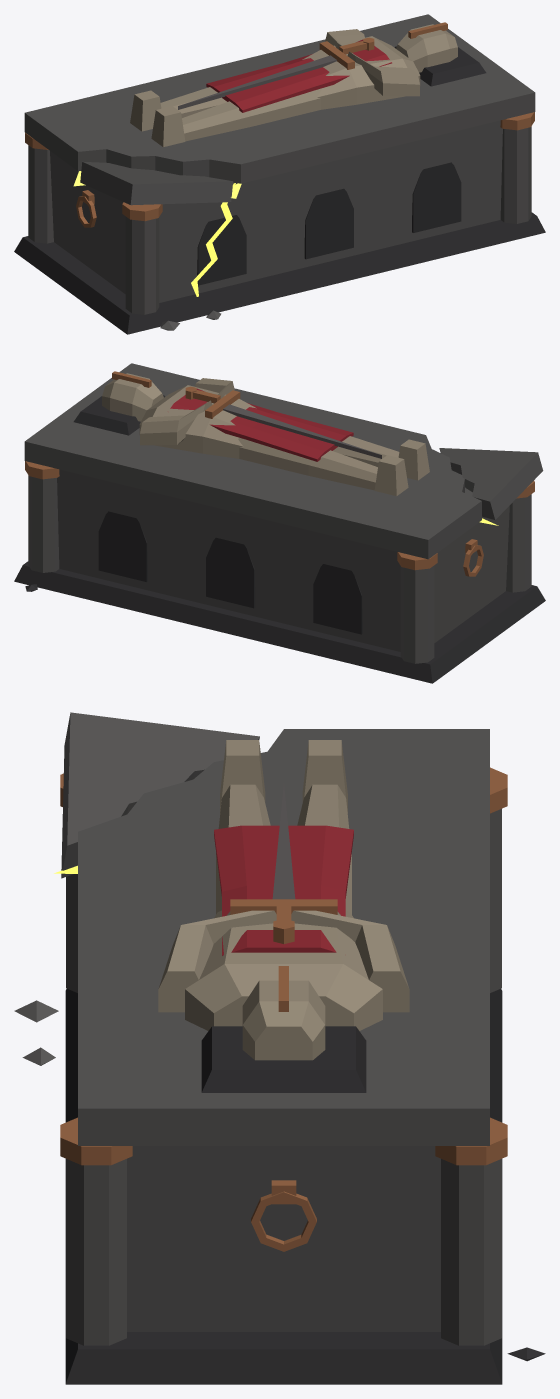
Rendered from tomb.glb.
3 views of the same model, one above another, from view 1: azimuth 30°, elevation 25°; view 2: azimuth 150°, elevation 25°; view 3: azimuth 270°, elevation 25° (orthographic). The views are drawn at different scales.
Visible parts, largest first — view 1: body, lid, plinth, lid_shard, effigy_tabard, pillar_fl, effigy_leg_r, effigy_torso, niche_front_2, pillar_fr, niche_front_1, niche_front_0 (+14 smaller); view 2: body, lid, plinth, lid_shard, effigy_tabard, pillar_rl, effigy_leg_l, effigy_torso, niche_back_2, niche_back_0, pillar_rr, niche_back_1 (+13 smaller); view 3: lid, body, plinth, lid_shard, effigy_torso, pillar_fr, pillar_rr, effigy_tabard, effigy_pillow, effigy_helm, effigy_arm_r, effigy_arm_l (+11 smaller).
Boxes of the visible parts, left/top/right/bottom form: body: left=50, top=120, right=502, bottom=302; lid: left=24, top=14, right=535, bottom=183; plinth: left=14, top=212, right=545, bottom=334; lid_shard: left=80, top=161, right=233, bottom=205; effigy_tabard: left=206, top=39, right=391, bottom=112; pillar_fl: left=125, top=216, right=159, bottom=314; effigy_leg_r: left=182, top=88, right=321, bottom=141; effigy_torso: left=302, top=36, right=420, bottom=109; niche_front_2: left=412, top=162, right=461, bottom=232; pillar_fr: left=500, top=126, right=531, bottom=223; niche_front_1: left=304, top=188, right=353, bottom=259; niche_front_0: left=197, top=215, right=246, bottom=285; body: left=57, top=469, right=509, bottom=651; lid: left=24, top=363, right=481, bottom=559; plinth: left=14, top=561, right=545, bottom=683; lid_shard: left=439, top=448, right=543, bottom=519; effigy_tabard: left=170, top=388, right=353, bottom=461; pillar_rl: left=400, top=565, right=434, bottom=663; effigy_leg_l: left=238, top=437, right=377, bottom=490; effigy_torso: left=139, top=385, right=256, bottom=458; niche_back_2: left=98, top=511, right=147, bottom=581; niche_back_0: left=313, top=564, right=362, bottom=634; pillar_rr: left=28, top=475, right=59, bottom=572; niche_back_1: left=206, top=537, right=255, bottom=608; lid: left=78, top=729, right=489, bottom=1145; body: left=127, top=1146, right=440, bottom=1331; plinth: left=65, top=988, right=502, bottom=1384; lid_shard: left=61, top=712, right=259, bottom=878; effigy_torso: left=185, top=910, right=382, bottom=1030; pillar_fr: left=66, top=1159, right=126, bottom=1345; pillar_rr: left=441, top=1159, right=501, bottom=1345; effigy_tabard: left=214, top=825, right=353, bottom=955; effigy_pillow: left=201, top=1026, right=366, bottom=1092; effigy_helm: left=242, top=980, right=325, bottom=1060; effigy_arm_r: left=158, top=910, right=276, bottom=1012; effigy_arm_l: left=291, top=910, right=409, bottom=1012.
Size of what is drawn, in the model's own units: 2.28 by 0.9305 by 1.29.
